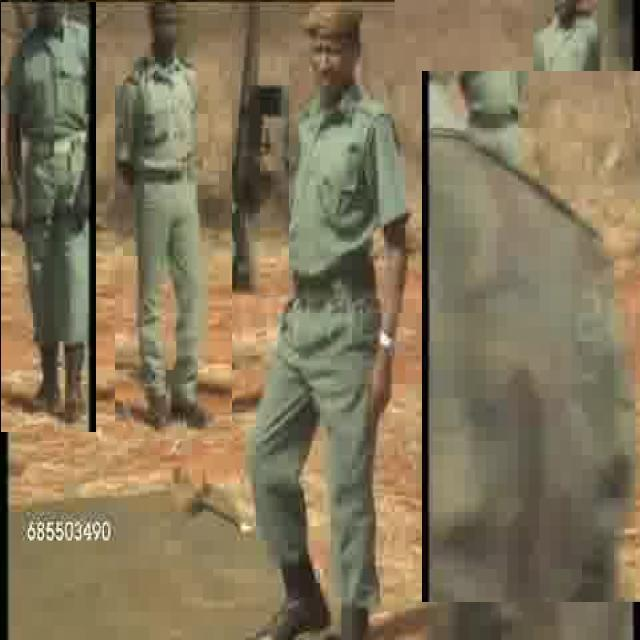poacher: (422, 71, 640, 602), (115, 2, 232, 439), (1, 2, 96, 432), (512, 1, 608, 154)
weapon: (227, 2, 289, 295)
